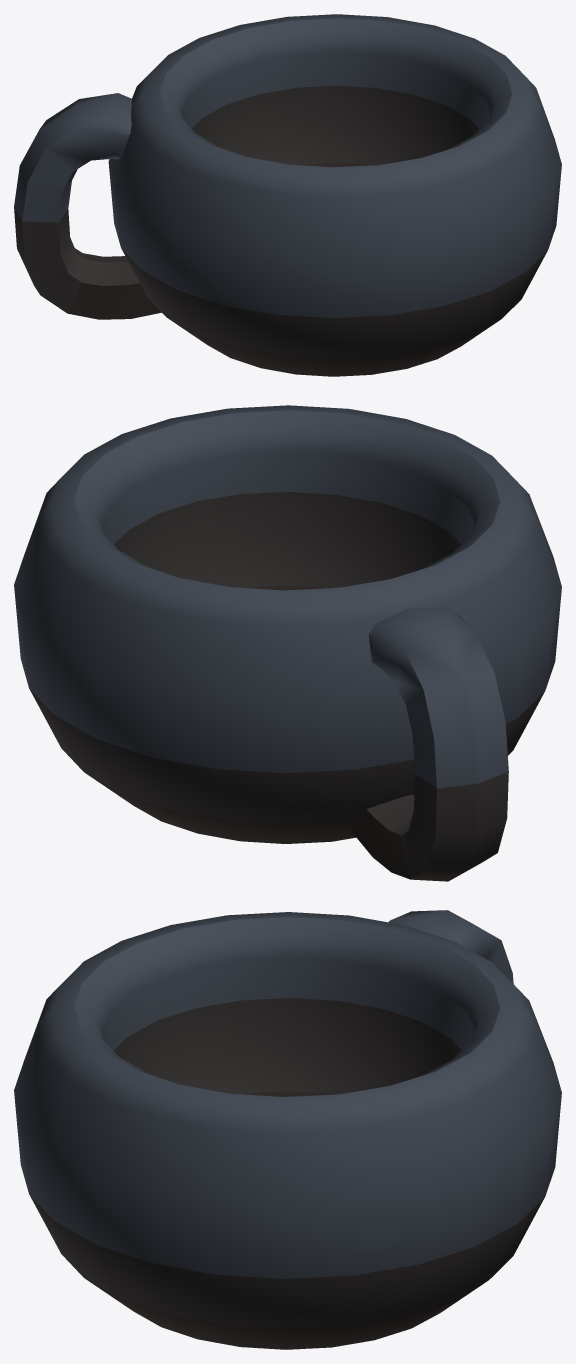
The model's file is xicara_natal_grafite_pacote.glb.
3 renders of one model, top to bottom at view 1: azimuth 30°, elevation 25°; view 2: azimuth 150°, elevation 25°; view 3: azimuth 270°, elevation 25°, orthographic. The views are drawn at different scales.
Parts seen in each view (by area): view 1: xicara_natal_grafite_pacote; view 2: xicara_natal_grafite_pacote; view 3: xicara_natal_grafite_pacote.
Part boxes in pixels (<box>): xicara_natal_grafite_pacote: <box>14,14,561,376</box>; xicara_natal_grafite_pacote: <box>14,405,561,881</box>; xicara_natal_grafite_pacote: <box>14,910,561,1349</box>.
Size of the model in its own units: 0.1073 by 0.0553 by 0.0948.
1 material, 1 textured.
